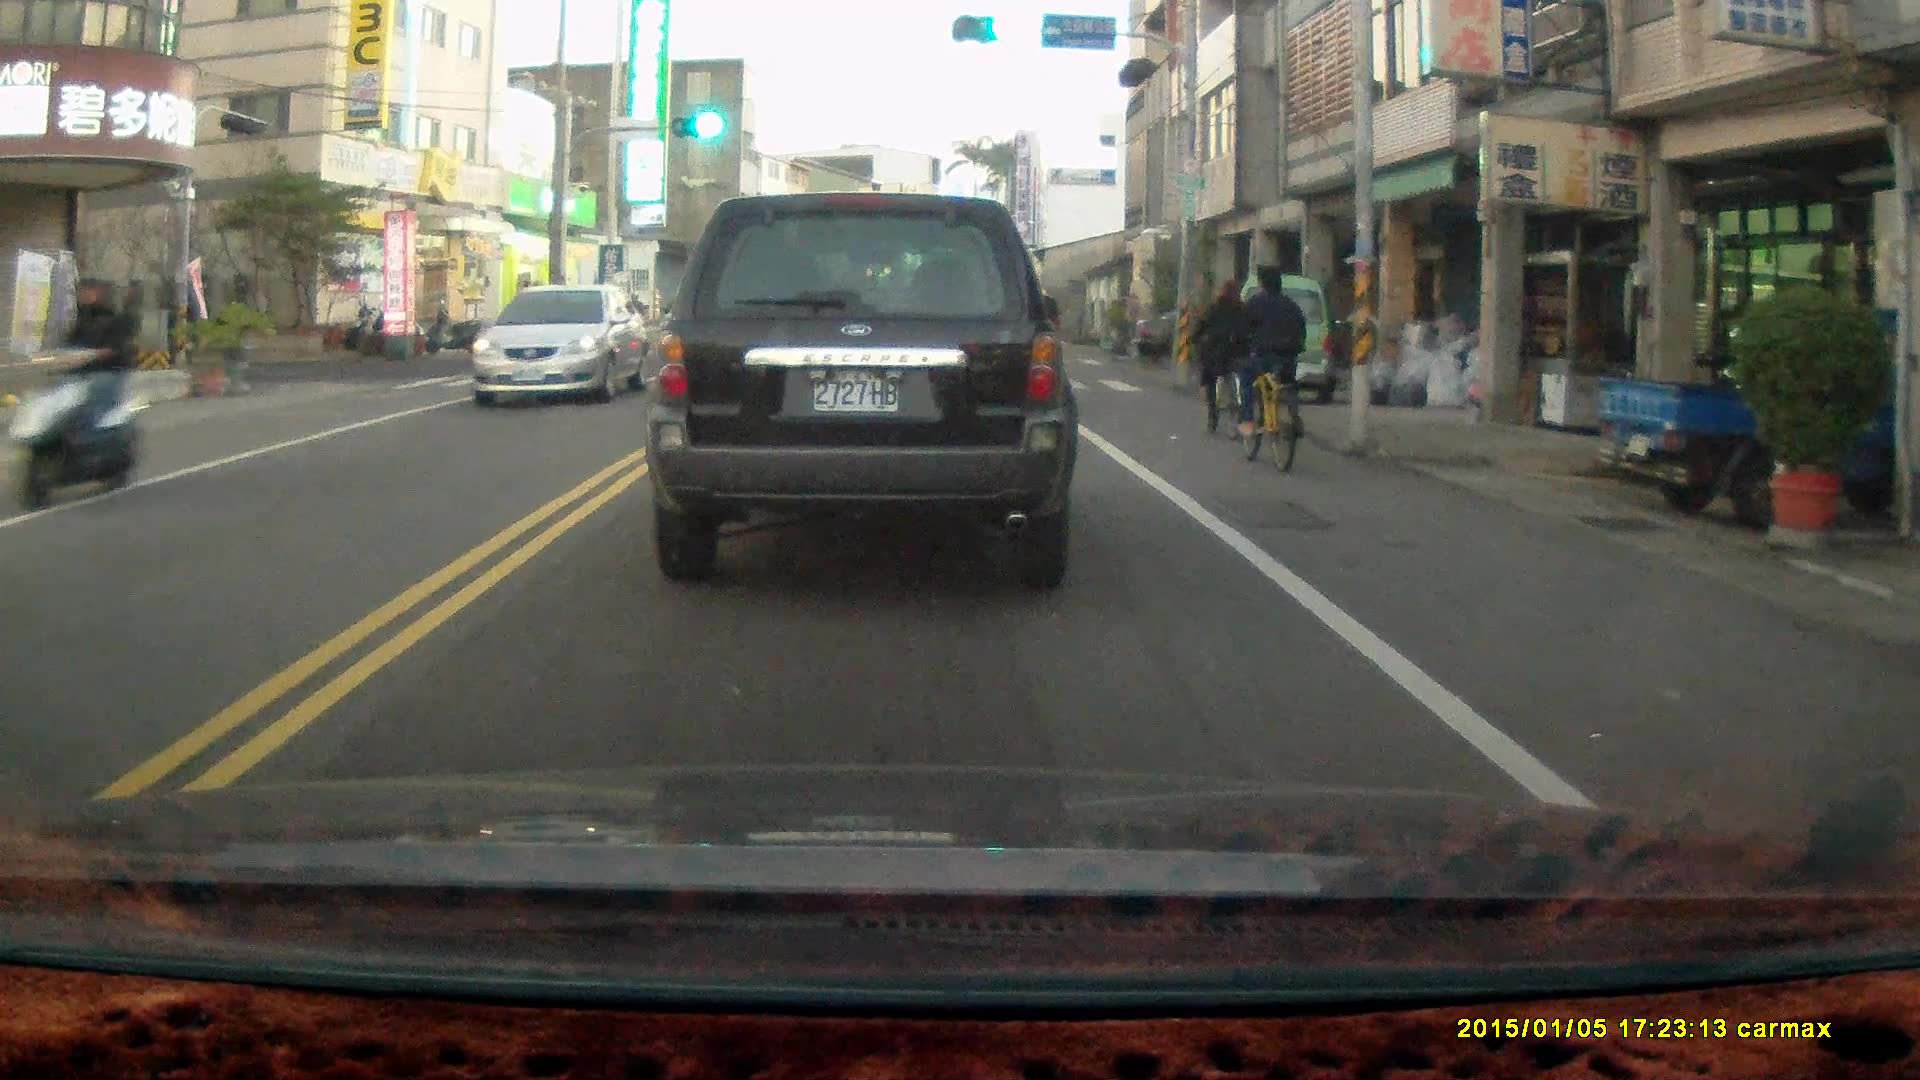rider: (0, 271, 149, 518), (1221, 264, 1306, 474), (1186, 278, 1255, 440)
vehicle: (653, 186, 1076, 583), (465, 284, 648, 407), (1228, 277, 1342, 397)
